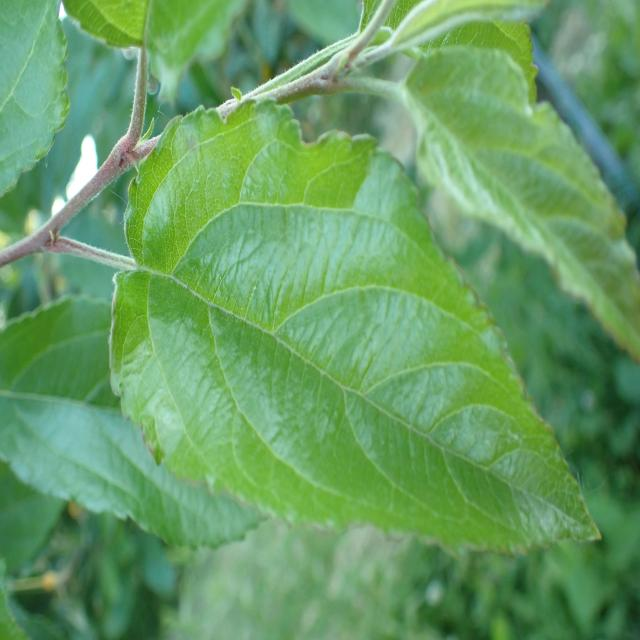healthy: (108, 99, 602, 558), (405, 18, 640, 363), (0, 294, 263, 552), (0, 0, 70, 197)
